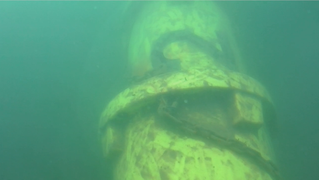2: (150, 29, 240, 74)
pipe: (97, 1, 278, 180)
